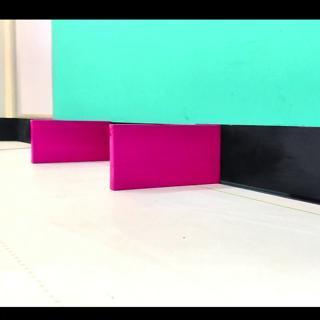xparking: (110, 124, 220, 184), (31, 119, 110, 159)
